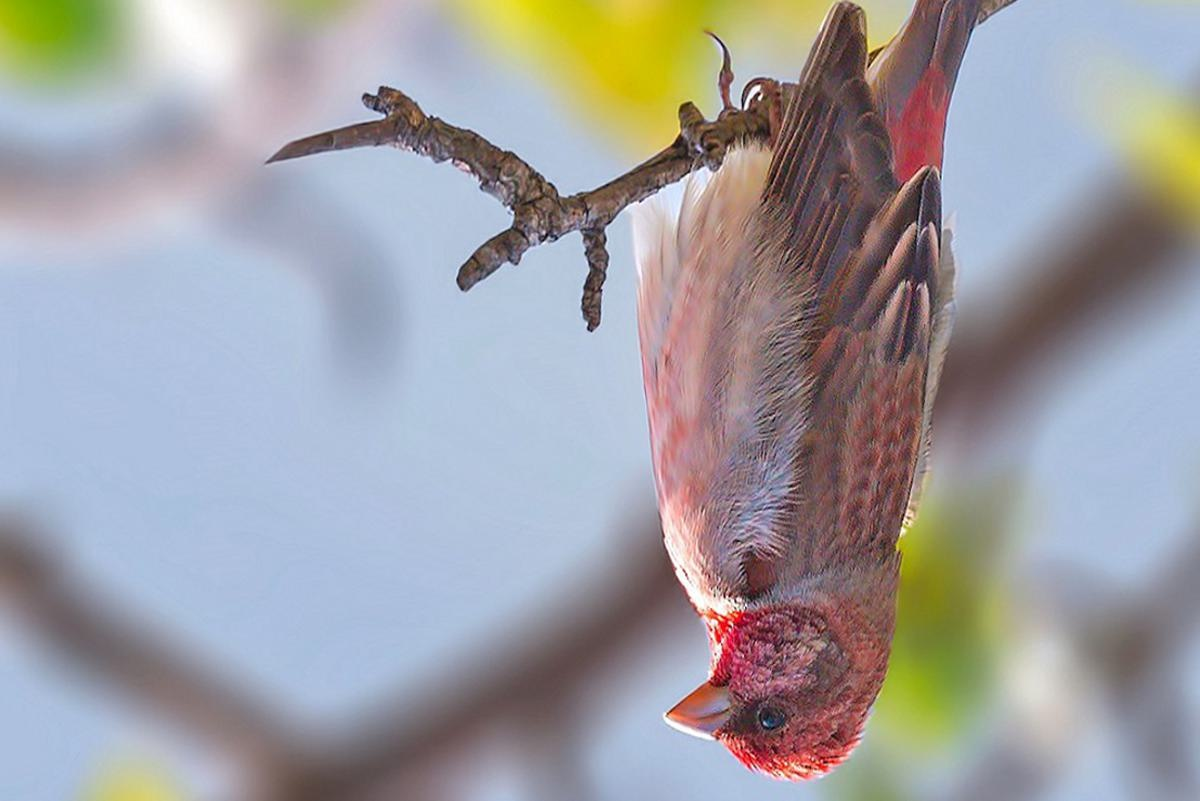rosefinch: (690, 82, 1023, 772)
